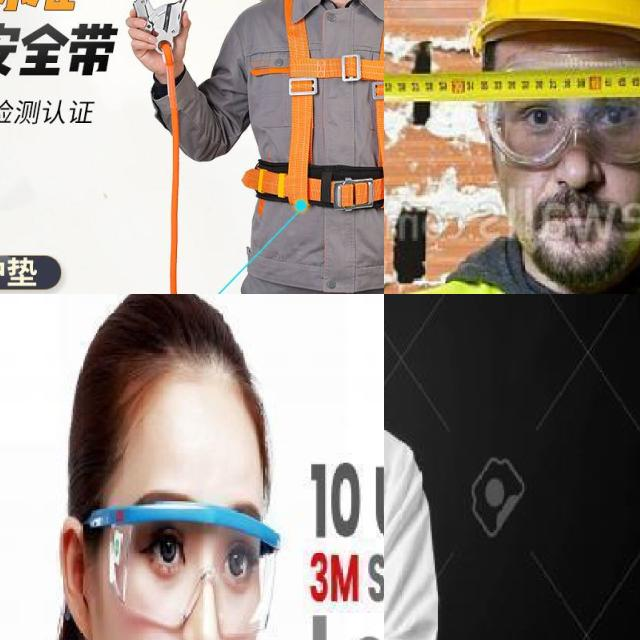Harness: (249, 0, 384, 214)
face_nomask: (123, 503, 265, 640), (507, 97, 640, 242)
glasses: (76, 498, 279, 640), (494, 64, 640, 169)
head_helmet: (473, 0, 640, 62)
head_nohelmet: (57, 294, 271, 446)
person: (384, 0, 640, 294), (384, 294, 449, 640)
